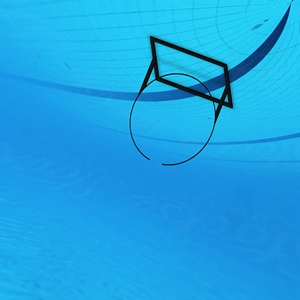circle: (127, 33, 237, 175)
